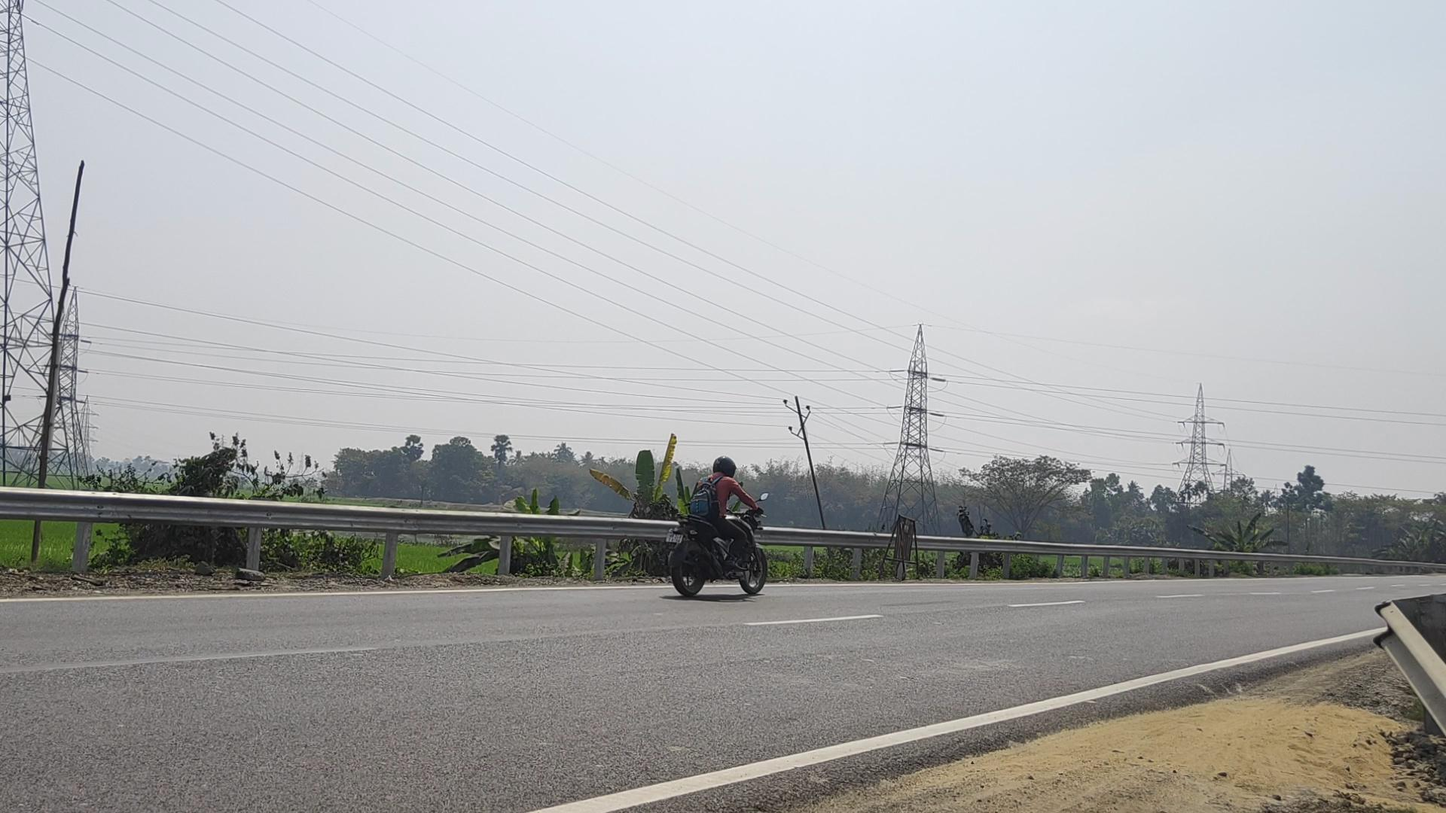bike: (666, 455, 767, 598)
